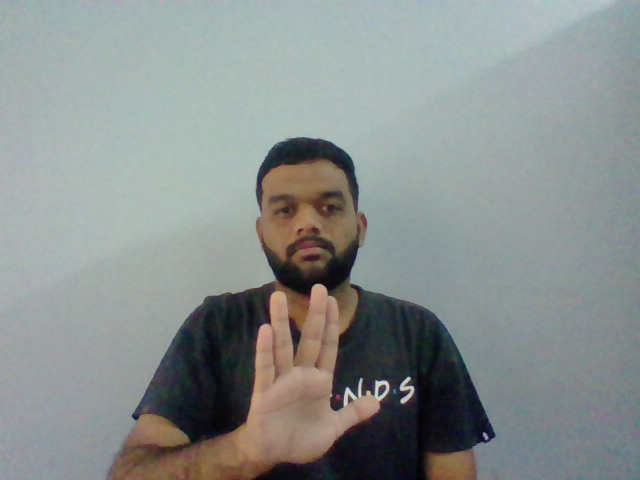Live long and prosper: (247, 282, 382, 465)
